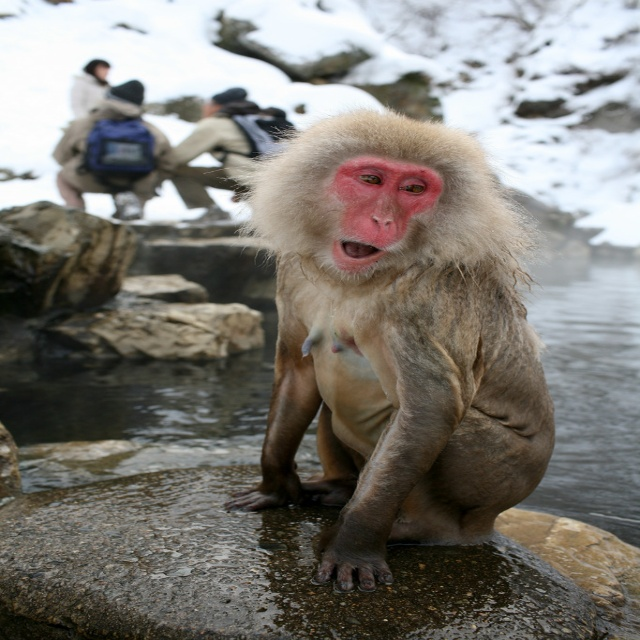Monkey: (224, 108, 557, 591)
